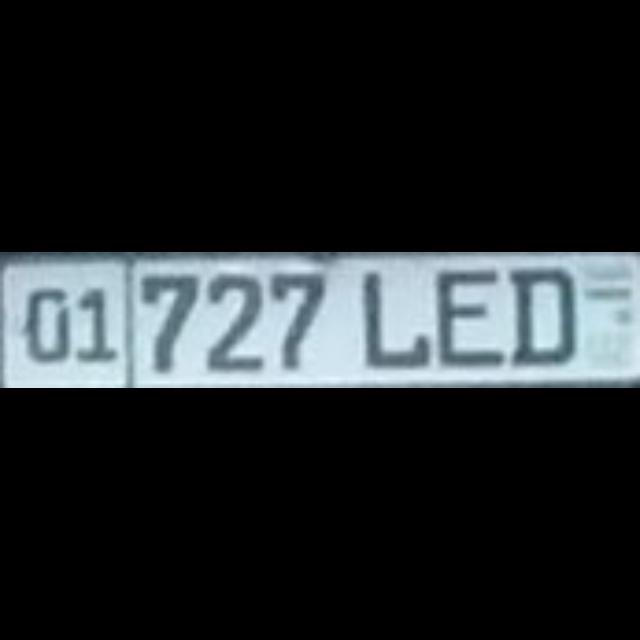0: (26, 285, 66, 359)
1: (74, 285, 114, 359)
2: (200, 267, 258, 367)
7: (270, 267, 322, 367), (138, 271, 192, 367)
D: (506, 263, 574, 363)
E: (432, 263, 500, 363)
L: (358, 267, 426, 367)
